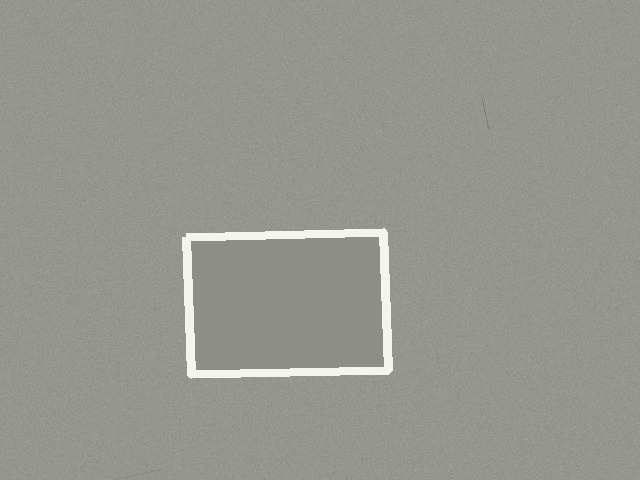parking_area: (186, 232, 388, 374)
